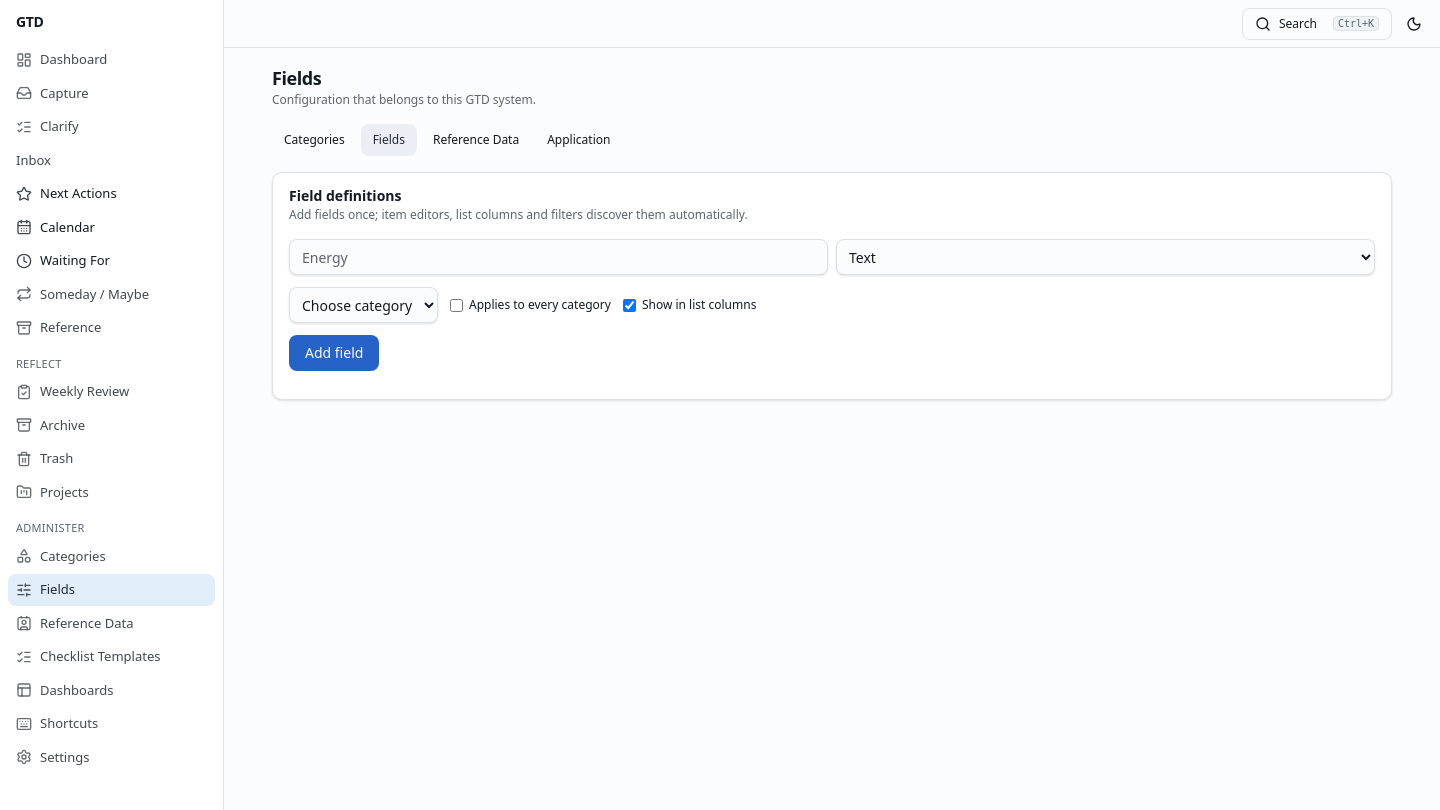
Scenario: fields › asks for options when the type needs them
Select "Priority" in the dropdown named "Field type": (1106, 257) 836,239 -> 1375,275
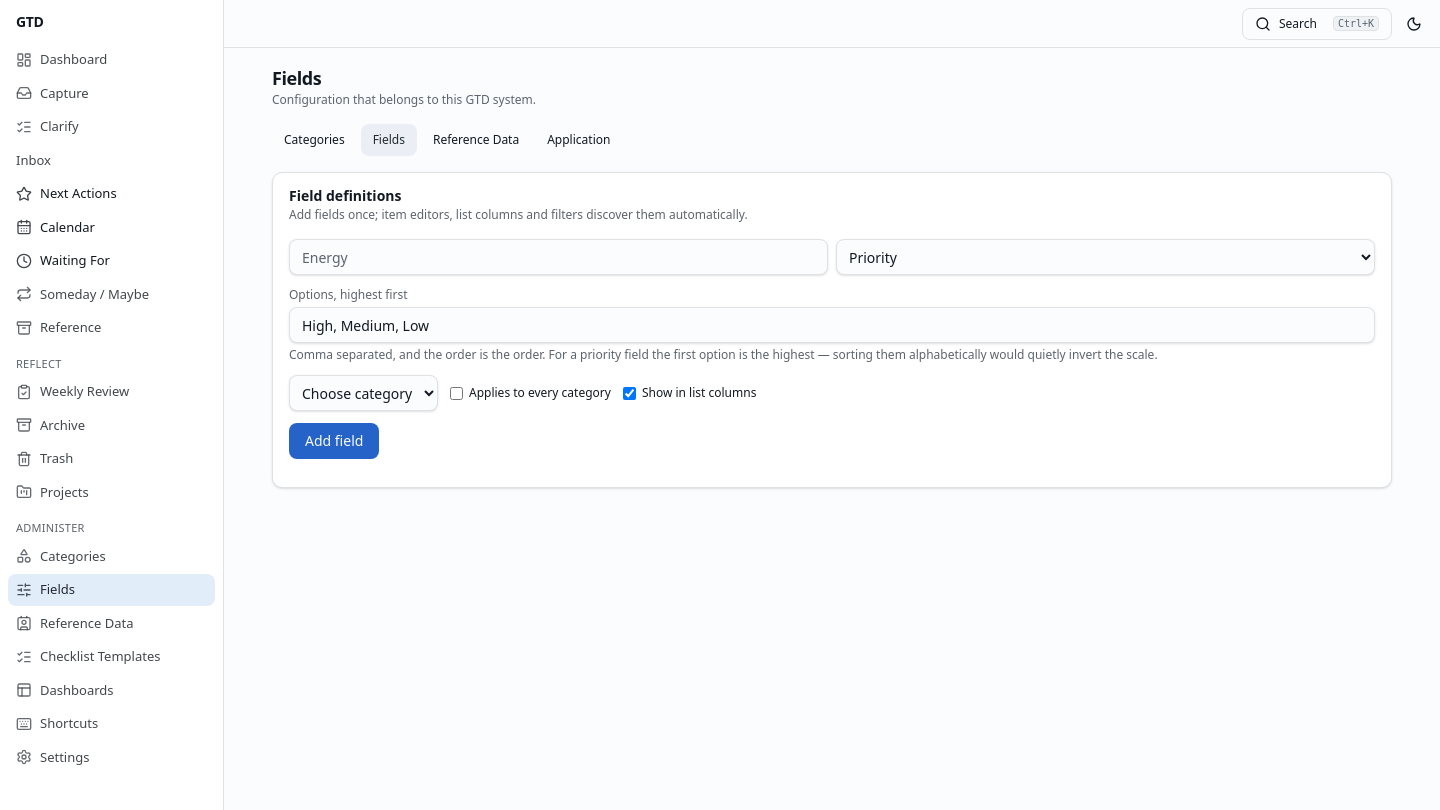
Result: the field labelled "Options, highest first" is shown at 289,307 -> 1375,343
